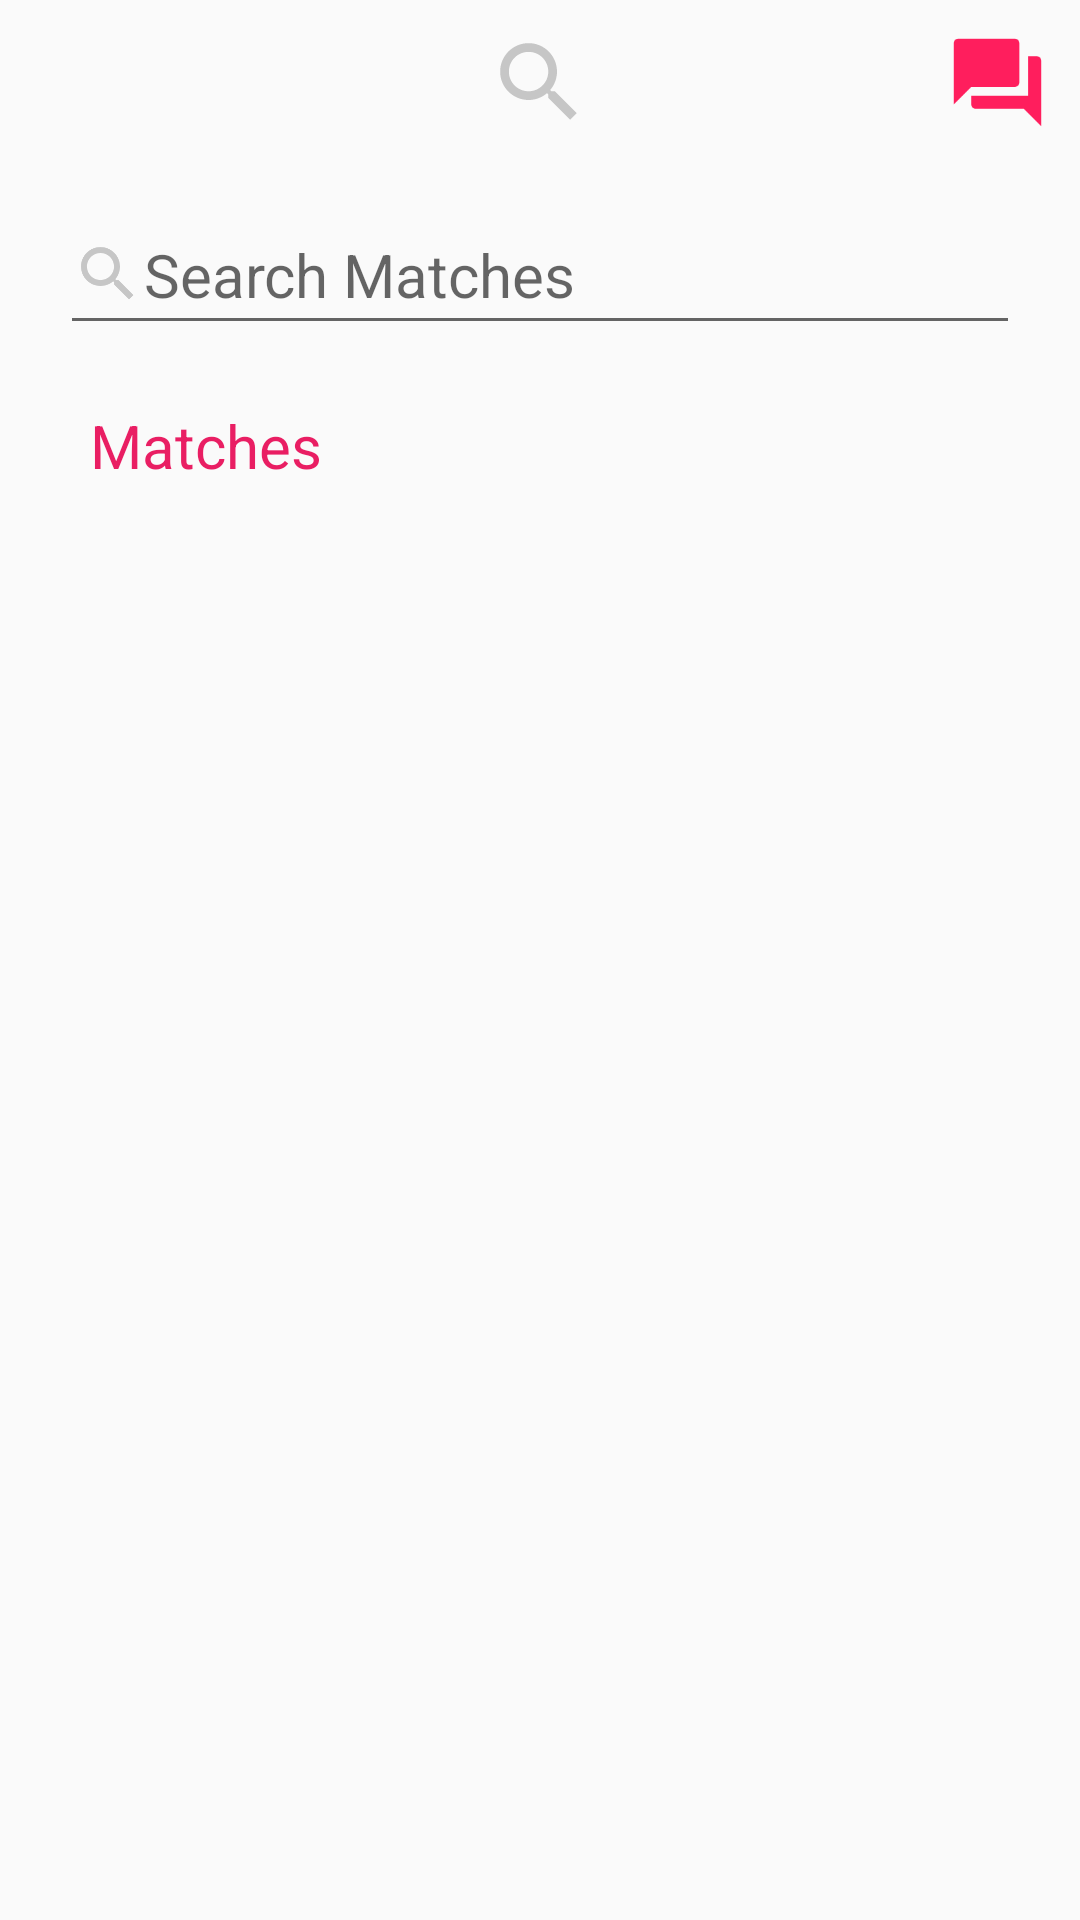

Screen size 1080×1920. Icon name, then its center in pixels as (x=x, y=y):
chat sel: (x=997, y=82)
